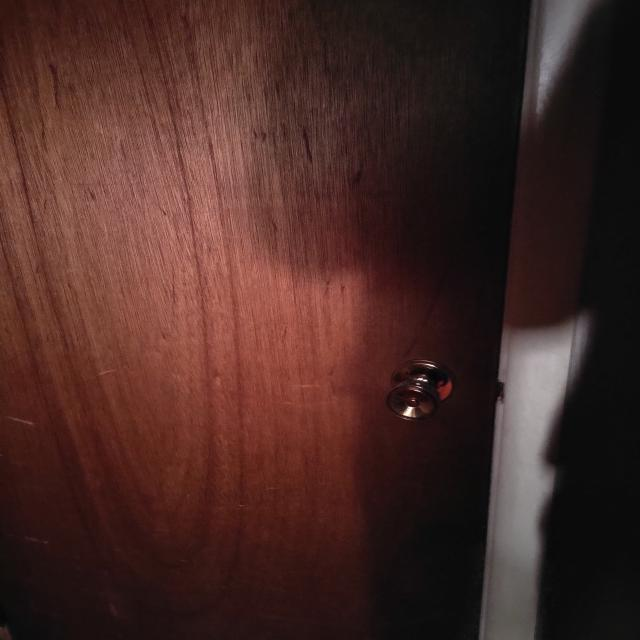door-knob: (386, 360, 453, 420)
